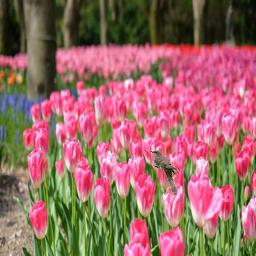Cuckoo: (149, 151, 177, 196)
